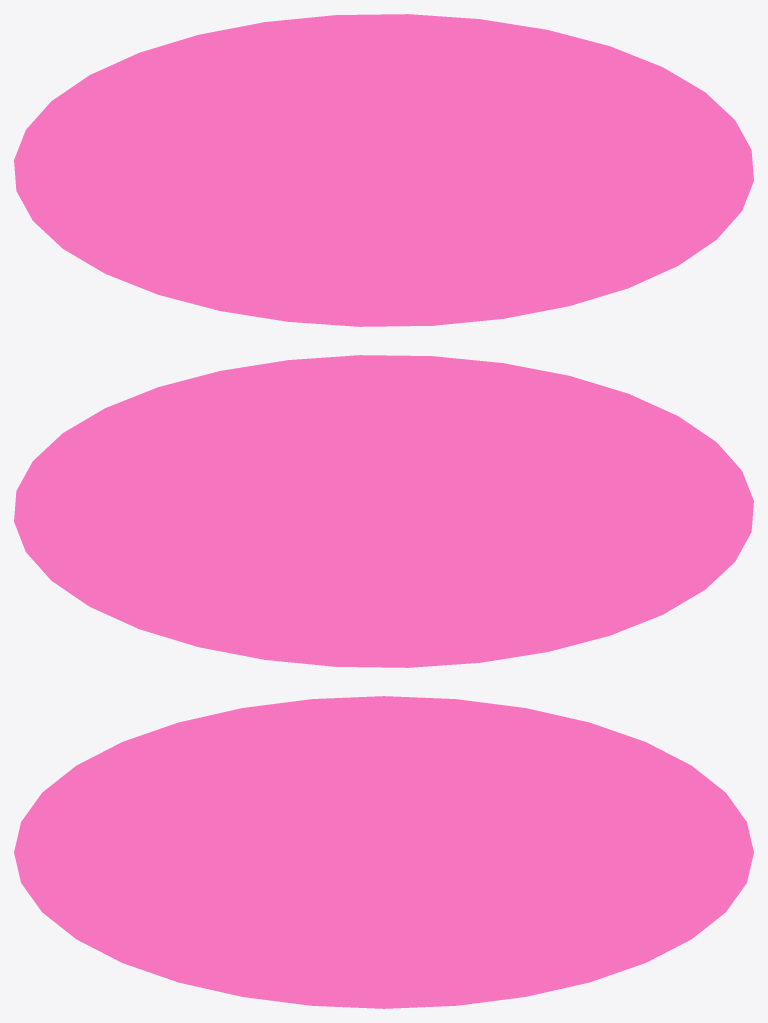
The model's file is waypoint.glb.
3 views of the same model, one above another, from view 1: azimuth 30°, elevation 25°; view 2: azimuth 150°, elevation 25°; view 3: azimuth 270°, elevation 25° (orthographic).
Parts seen in each view (by area): view 1: Waypoint, WingtipL; view 2: Waypoint, WingtipL; view 3: Waypoint, WingtipL.
Boxes of the visible parts, left/top/right/bottom form: Waypoint: left=14, top=14, right=753, bottom=326; WingtipL: left=131, top=64, right=583, bottom=277; Waypoint: left=14, top=355, right=753, bottom=667; WingtipL: left=184, top=405, right=636, bottom=618; Waypoint: left=14, top=696, right=753, bottom=1008; WingtipL: left=199, top=774, right=568, bottom=930.
Size of the model in its own units: 0.4 by 0 by 0.4.
